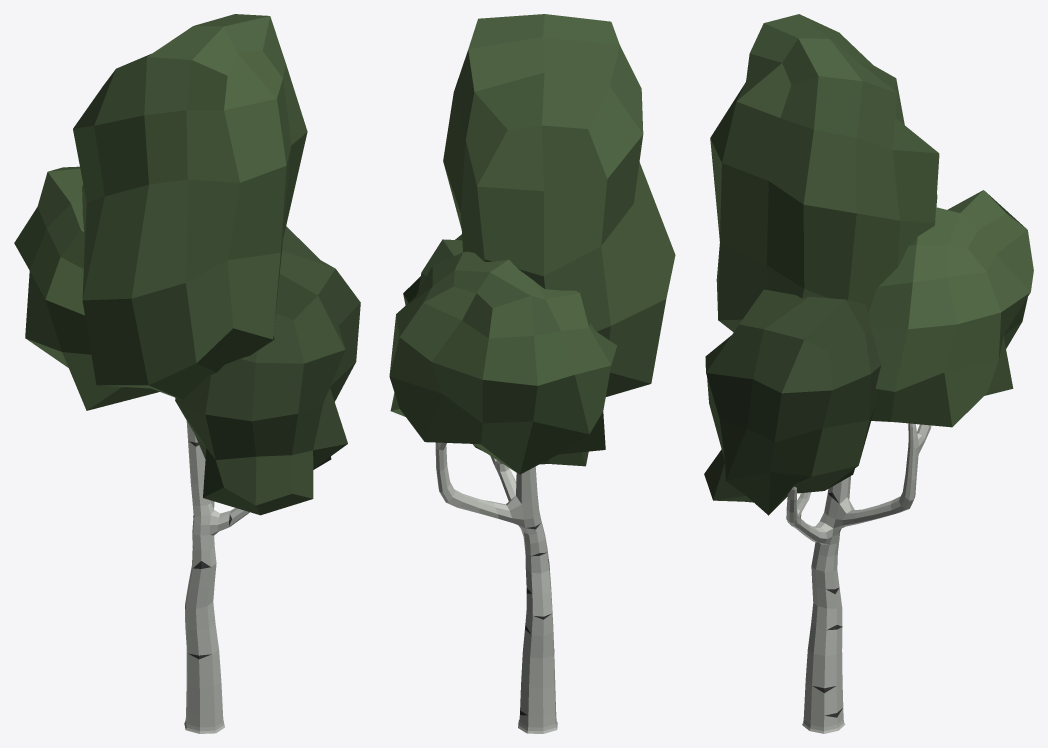
3 renders of one model, left to right at view 1: azimuth 30°, elevation 25°; view 2: azimuth 150°, elevation 25°; view 3: azimuth 270°, elevation 25°, orthographic. The views are drawn at different scales.
Visible parts, largest first — view 1: BirchTree_3; view 2: BirchTree_3; view 3: BirchTree_3.
Part boxes in pixels (<box>): BirchTree_3: <box>14,14,360,733</box>; BirchTree_3: <box>389,14,675,733</box>; BirchTree_3: <box>704,14,1033,733</box>.
Size of the model in its own units: 1.57 by 4.09 by 1.77.
